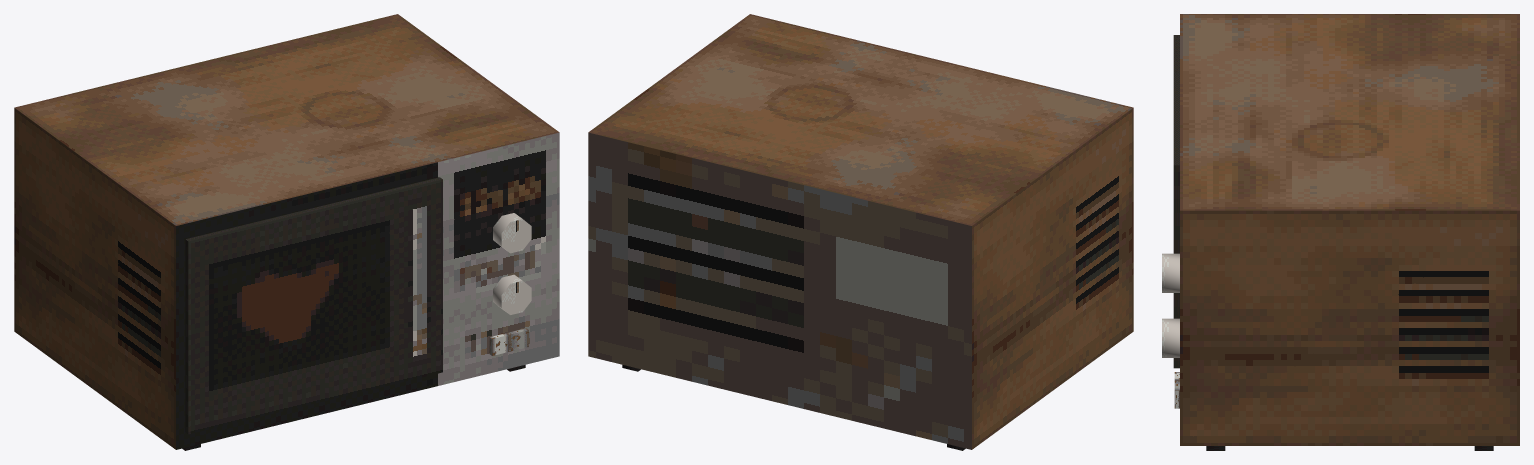
The model's file is microwave_old.glb.
The picture shows the model from 3 angles, left to right: view 1: azimuth 30°, elevation 25°; view 2: azimuth 150°, elevation 25°; view 3: azimuth 270°, elevation 25°; orthographic projection. The views are drawn at different scales.
Visible parts, largest first — view 1: microwave_old; view 2: microwave_old; view 3: microwave_old.
Boxes of the visible parts, left/top/right/bottom form: microwave_old: left=14, top=14, right=559, bottom=450; microwave_old: left=588, top=14, right=1133, bottom=450; microwave_old: left=1162, top=14, right=1519, bottom=450.
Bounding box in the file's own units: 0.52 × 0.31 × 0.4.
1 material, 1 textured.
